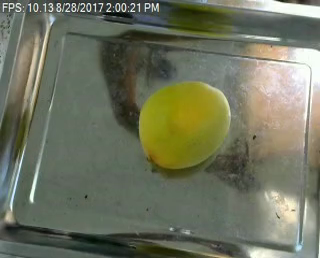Mango: (132, 75, 236, 173)
